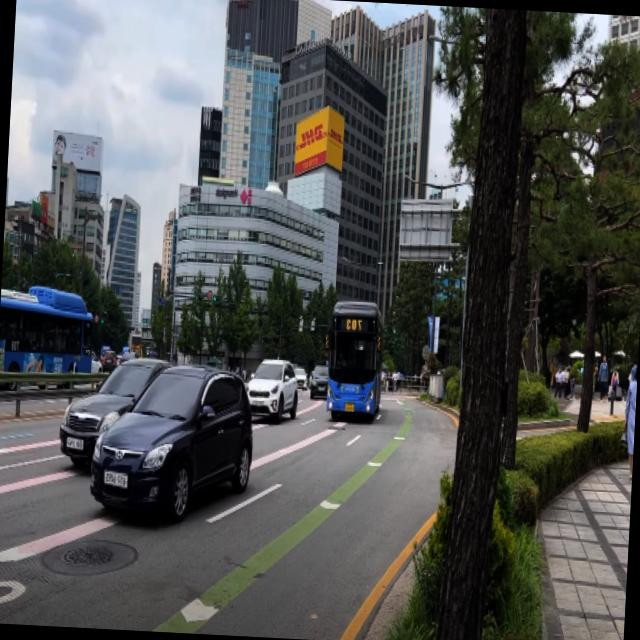bus-number: (346, 316, 364, 334)
